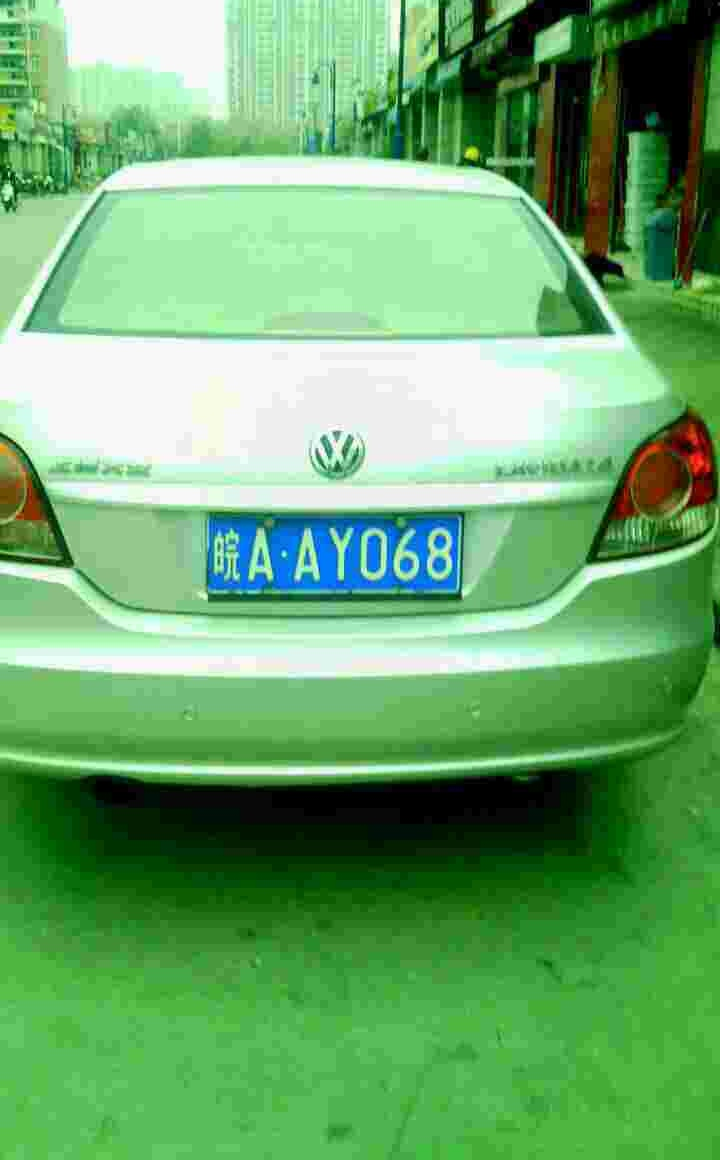license_plate: (207, 520, 446, 594)
